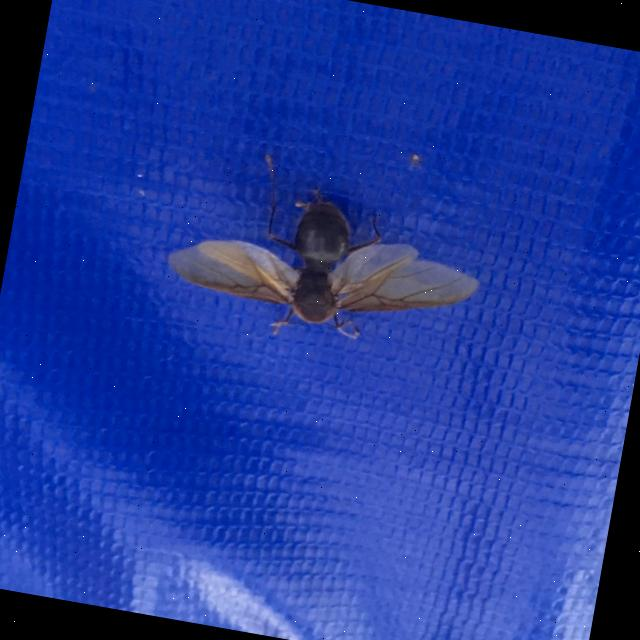Alive-Male-Alate: (157, 140, 496, 368)
